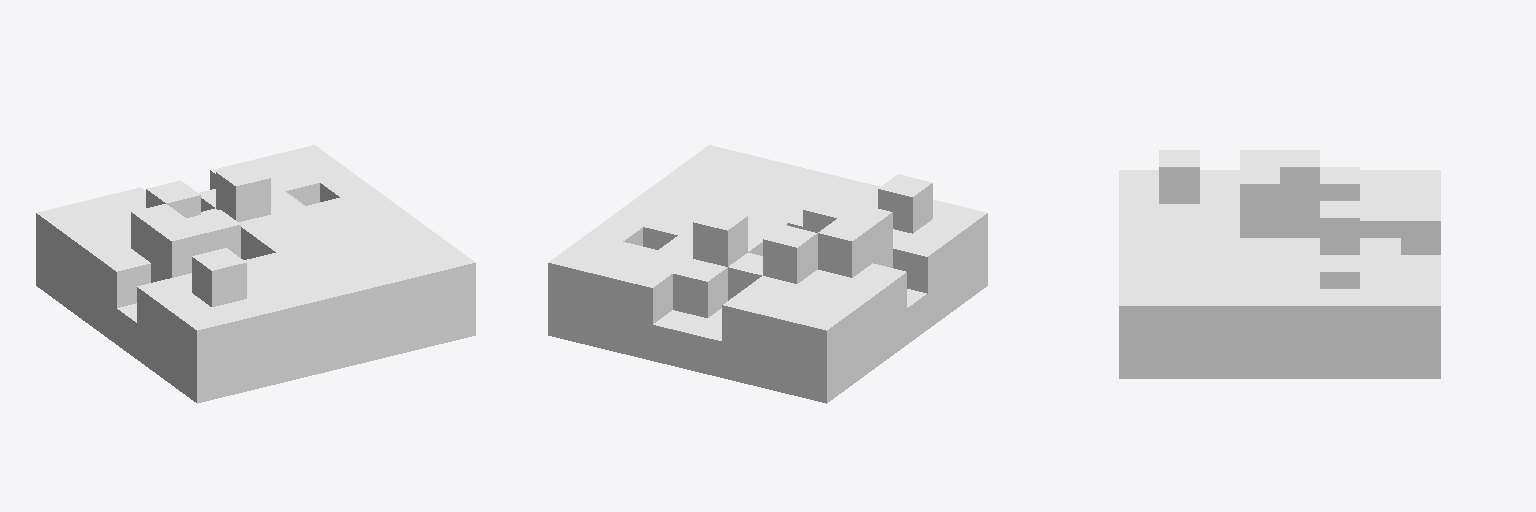
File: GreenCorall11.obj
3 views of the same model, side by side, from view 1: azimuth 30°, elevation 25°; view 2: azimuth 150°, elevation 25°; view 3: azimuth 270°, elevation 25° (orthographic).
Visible parts, largest first — view 1: object 1; view 2: object 1; view 3: object 1.
Boxes of the visible parts, <box> form: object 1: <box>36,145,475,403</box>; object 1: <box>548,145,987,403</box>; object 1: <box>1119,150,1440,378</box>.
Bounding box in the file's own units: 0.8 × 0.3 × 0.8.